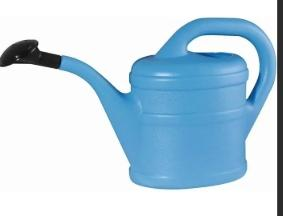ARROSOIR: (1, 5, 276, 216)
